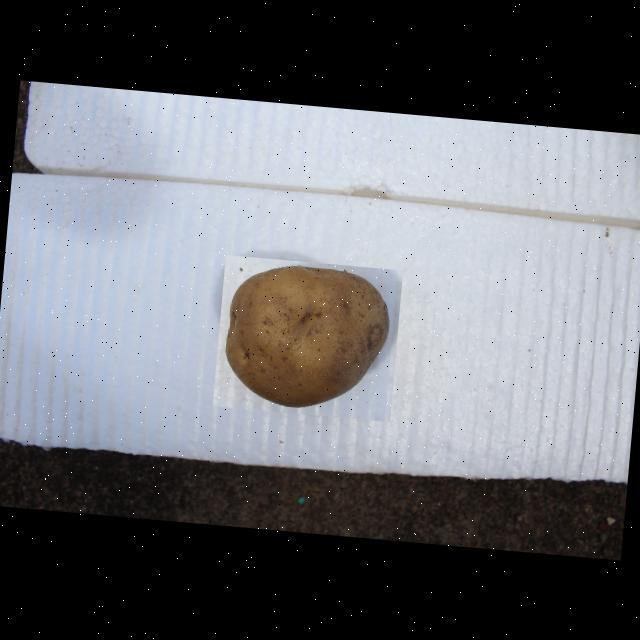Damaged potato: (212, 254, 403, 422)
